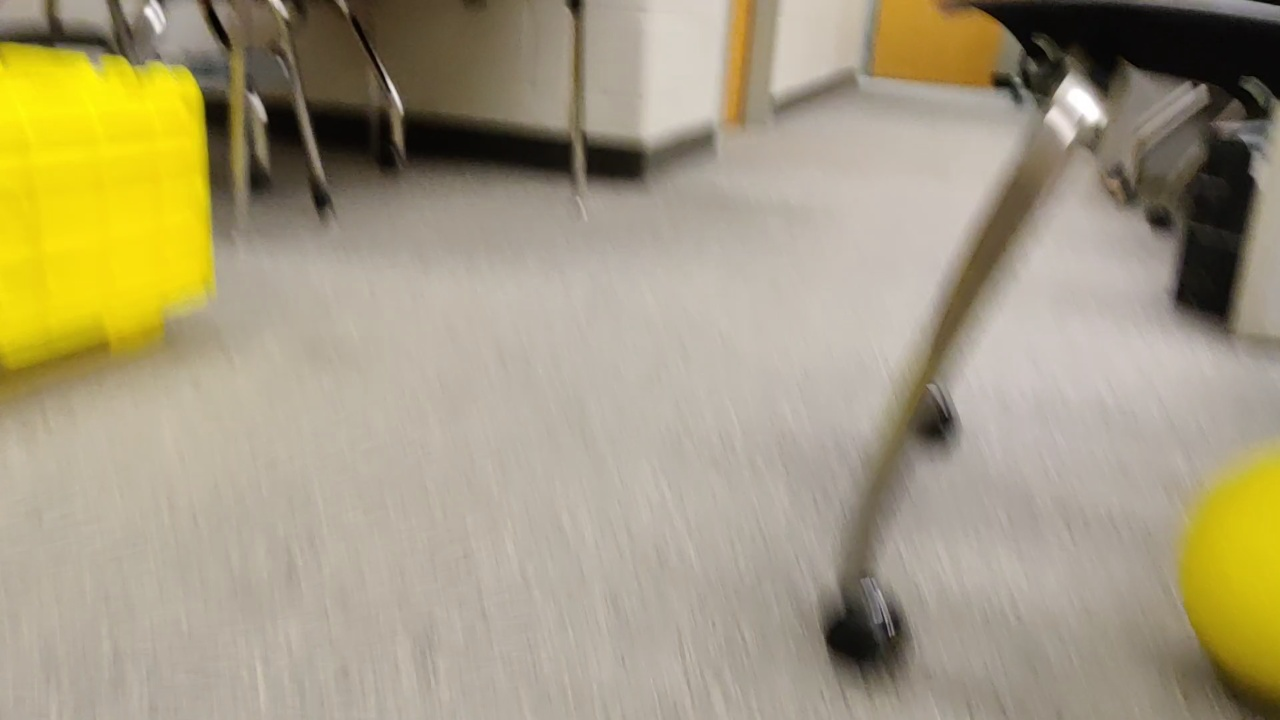Ball: (1180, 434, 1279, 720)
